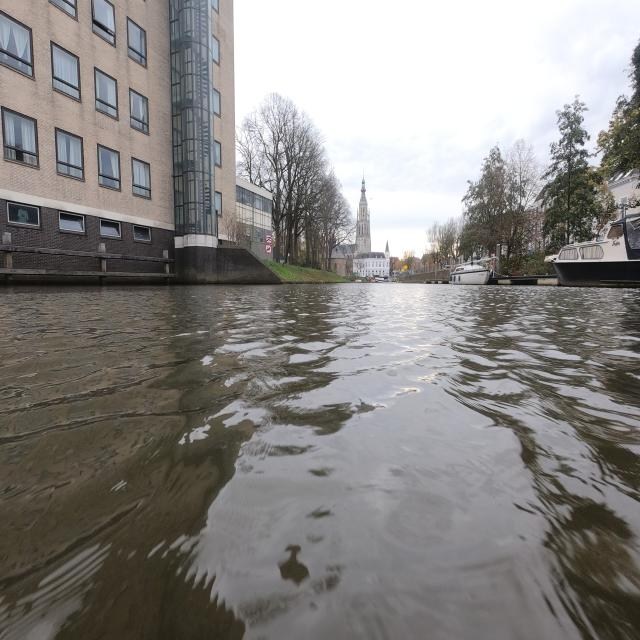boat: (553, 214, 640, 286), (450, 257, 495, 285)
dock: (489, 275, 558, 286)
grass: (268, 262, 347, 282)
sky: (232, 4, 638, 252)
tree: (434, 104, 614, 270)
wall: (0, 204, 170, 284), (186, 242, 292, 286), (399, 270, 450, 283)
water: (10, 290, 638, 632)
